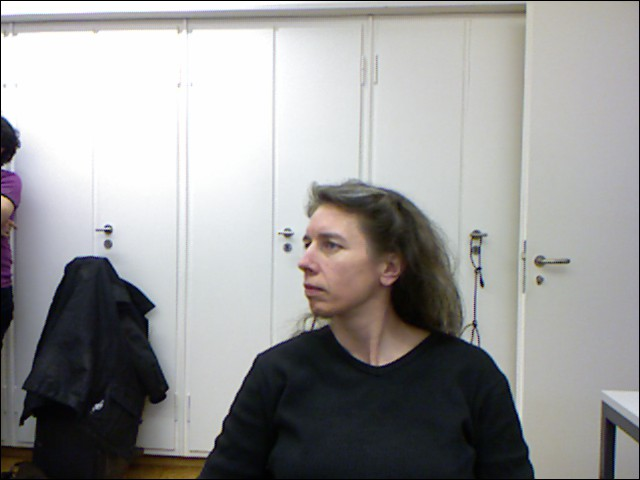deflection: (255, 190, 480, 480)
